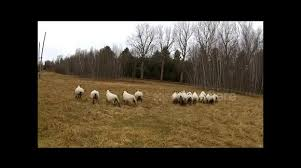sheep: (105, 90, 121, 107), (120, 90, 136, 104), (73, 84, 85, 97), (89, 89, 100, 103), (176, 90, 184, 105), (133, 89, 143, 100), (170, 92, 178, 104), (182, 90, 188, 106), (205, 93, 213, 105), (192, 89, 198, 104), (199, 89, 205, 104), (212, 93, 220, 104), (187, 90, 193, 104)
